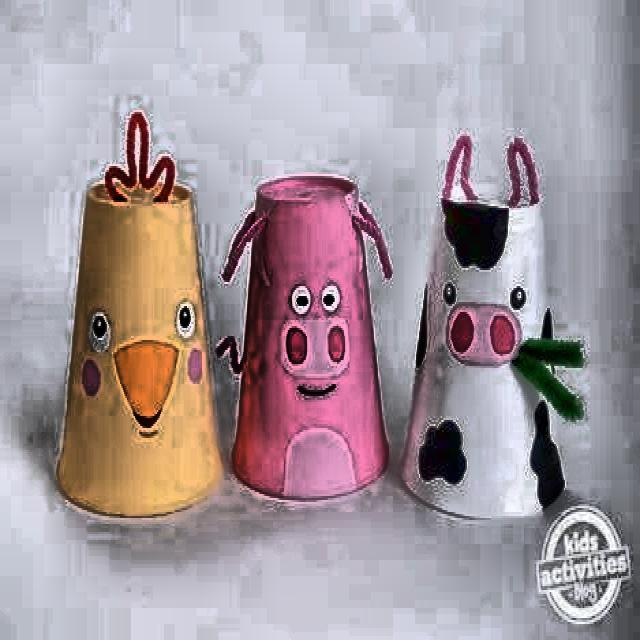Cup: (401, 156, 576, 521), (53, 168, 231, 515), (229, 169, 394, 500)
